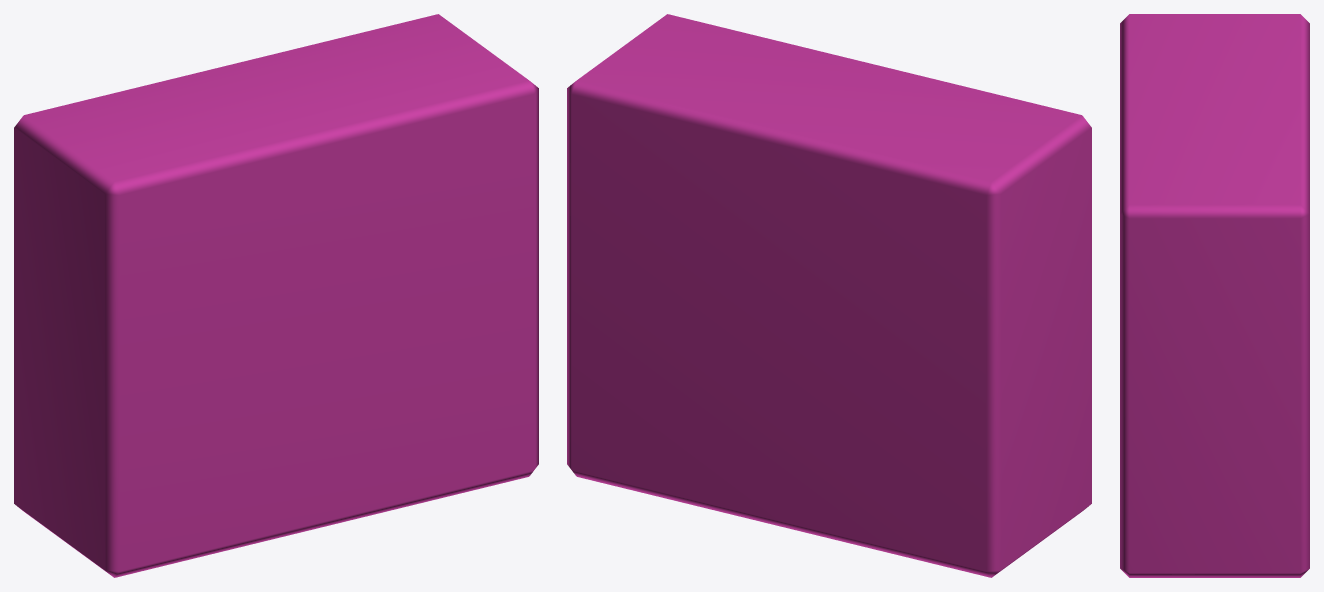
Rendered from OBS0110036.fbx.
3 renders of one model, left to right at view 1: azimuth 30°, elevation 25°; view 2: azimuth 150°, elevation 25°; view 3: azimuth 270°, elevation 25°, orthographic. The views are drawn at different scales.
Visible parts, largest first — view 1: smOBS0110036; view 2: smOBS0110036; view 3: smOBS0110036.
Part boxes in pixels (x1,y1,x2,y2): smOBS0110036: (14,14,538,577); smOBS0110036: (567,14,1091,577); smOBS0110036: (1120,14,1309,577).
Size of the model in its own units: 189 by 165 by 76.16.
Materials: 1 (1 with a texture image).
